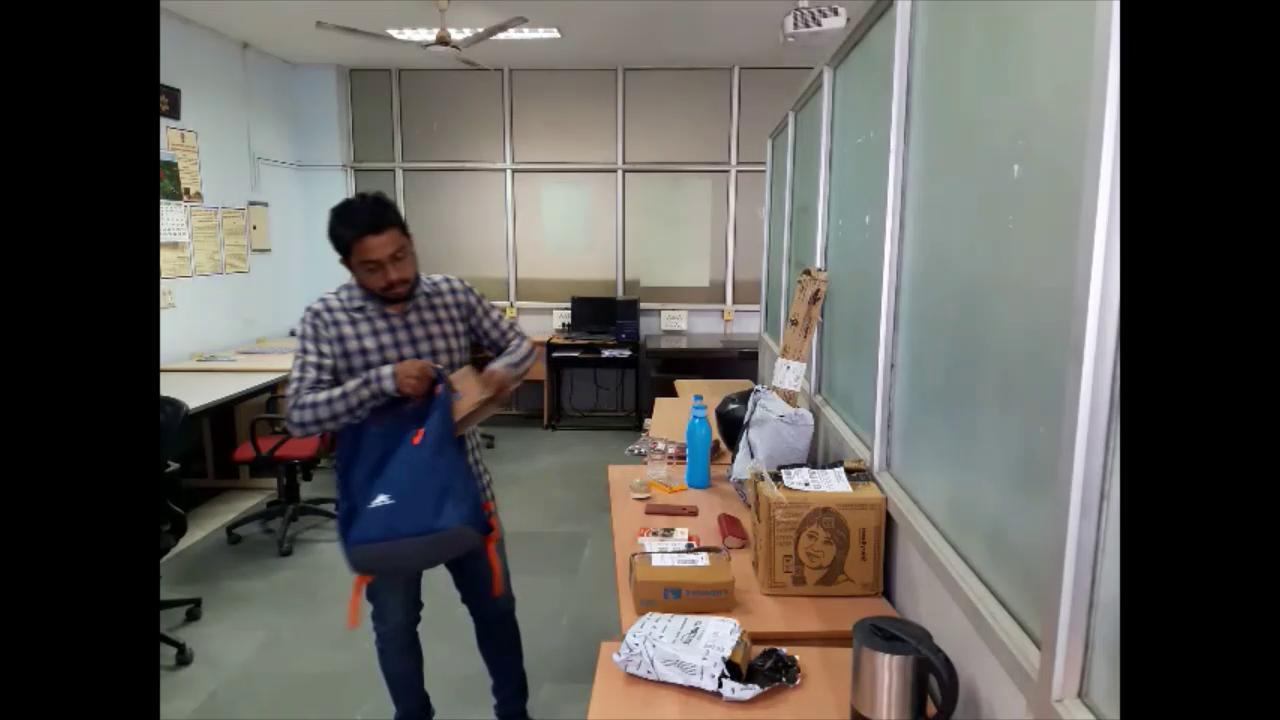shoplifting: (273, 178, 526, 720)
